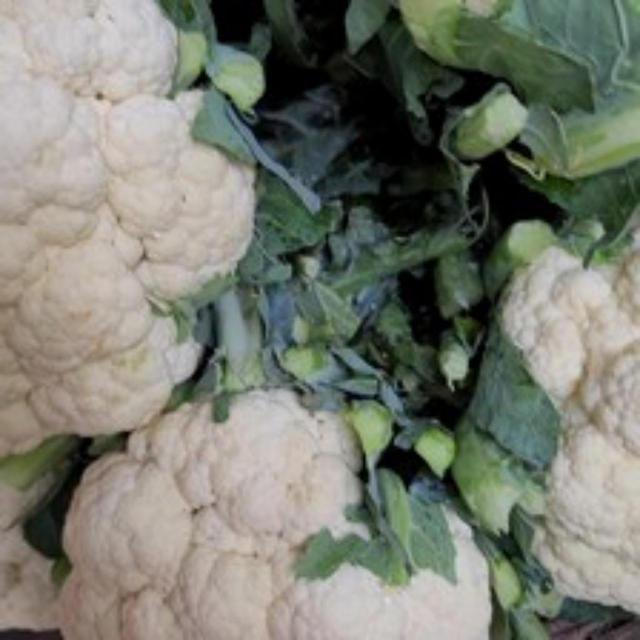cauliflower: (51, 377, 511, 637)
